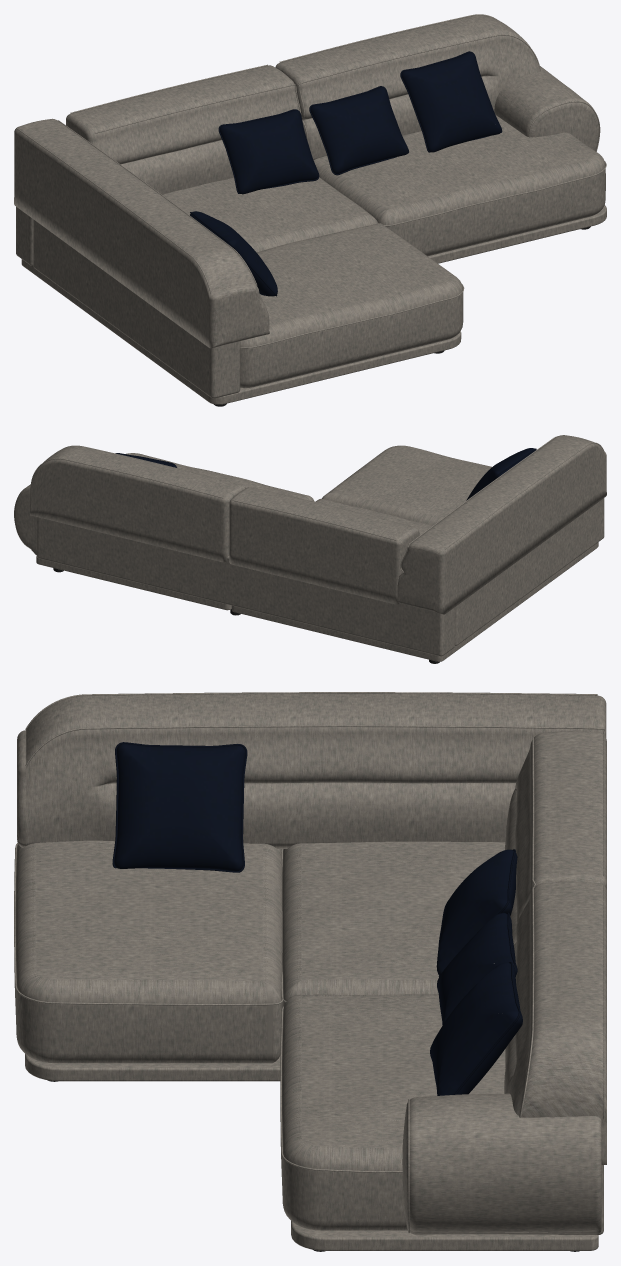
The model's file is corner.glb.
3 views of the same model, one above another, from view 1: azimuth 30°, elevation 25°; view 2: azimuth 150°, elevation 25°; view 3: azimuth 270°, elevation 25° (orthographic). The views are drawn at different scales.
Visible parts, largest first — view 1: fabric (×2), accent (×2); view 2: fabric (×2), accent; view 3: fabric (×2), accent (×2).
Part boxes in pixels (<box>): fabric (×2): <box>14,14,606,404</box>; accent (×2): <box>190,51,502,296</box>; fabric (×2): <box>14,435,606,661</box>; accent: <box>115,448,535,500</box>; fabric (×2): <box>14,692,606,1250</box>; accent (×2): <box>112,742,522,1095</box>.
Bounding box in the file's own units: 3 × 0.8138 × 2.
Materials: 5 (4 with a texture image).
